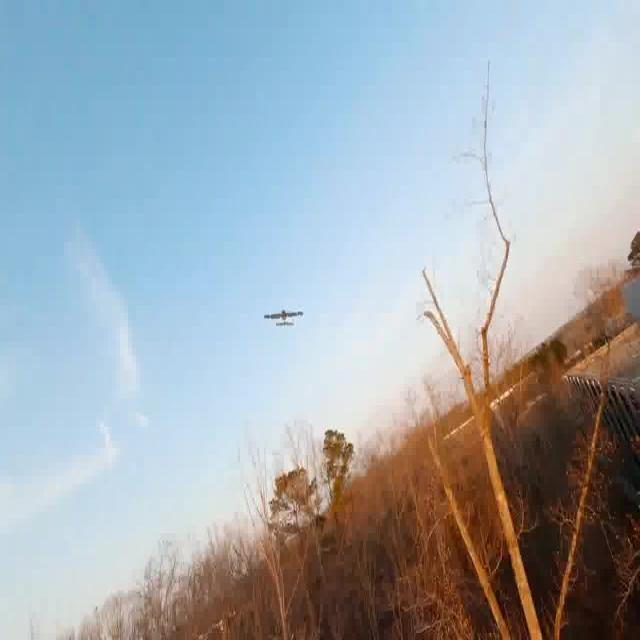iha: (262, 296, 308, 340)
